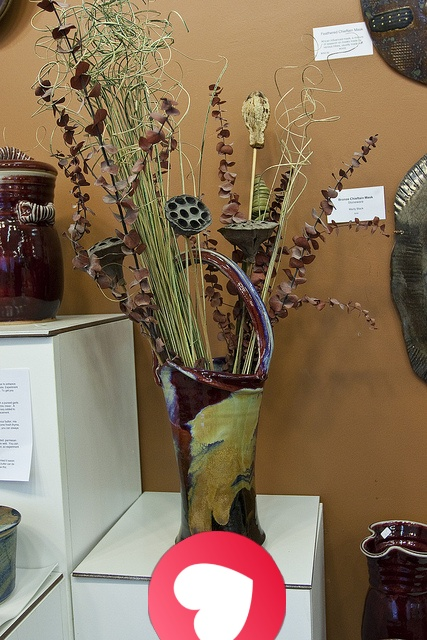love: (148, 531, 286, 640)
